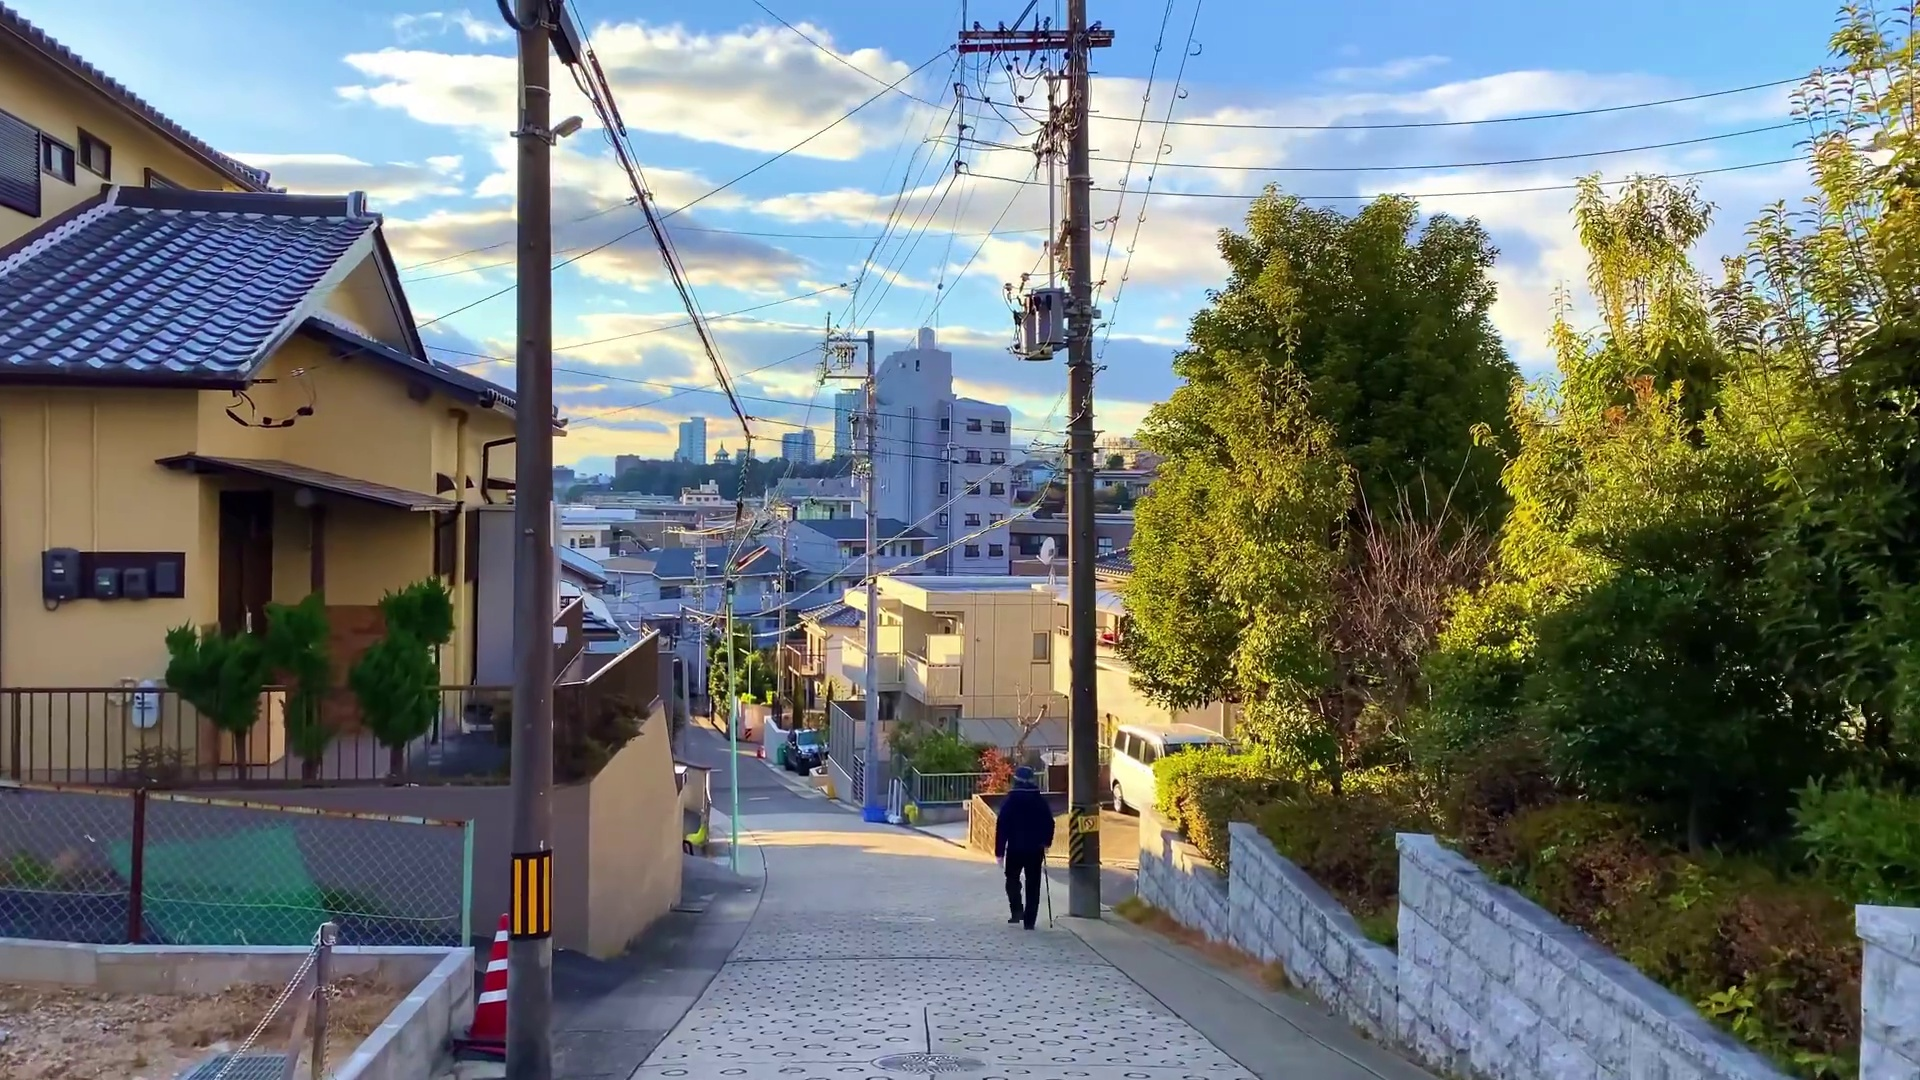person: (997, 768, 1055, 932)
